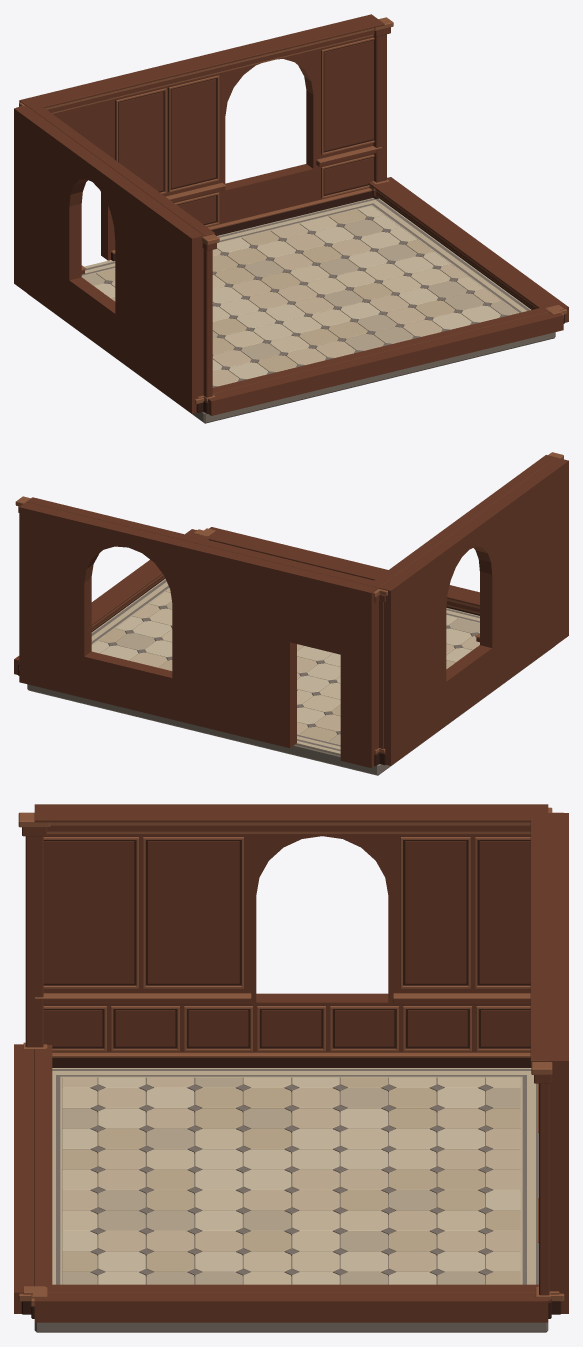
The model's file is main1f_f05_architecture.glb.
3 views of the same model, one above another, from view 1: azimuth 30°, elevation 25°; view 2: azimuth 150°, elevation 25°; view 3: azimuth 270°, elevation 25° (orthographic). The views are drawn at different scales.
Visible parts, largest first — view 1: main1f_f05_Floor, main1f_f05_left_Wall_Solid_00, main1f_f05_rear_Wall_Solid_00, main1f_f05_front_Cutedge_Solid_00, main1f_f05_rear_Wall_UpperPanel_00_2_0_Field, main1f_f05_rear_Wall_UpperPanel_00_1_1_Field, main1f_f05_rear_Wall_UpperPanel_00_1_0_Field, main1f_f05_rear_Wall_Cornice_00_3_0, main1f_f05_Floor_Foundation, main1f_f05_front_Cutedge_Cornice_00_3_0, main1f_f05_right_Cutedge_Solid_00, main1f_f05_Floor_Diamond_inlays (+14 smaller); view 2: main1f_f05_rear_Wall_Solid_00, main1f_f05_left_Wall_Solid_00, main1f_f05_Floor, main1f_f05_Floor_Foundation, main1f_f05_rear_Wall_Cornice_00_3_0, main1f_f05_left_Wall_Cornice_00_3_0, main1f_f05_front_Cutedge_Cornice_00_3_0, main1f_f05_front_Cutedge_Solid_00, main1f_f05_right_Cutedge_Solid_00, main1f_f05_right_Cutedge_Cornice_00_3_0, Pilaster_Shaft, Pilaster_Shaft_003 (+1 smaller); view 3: main1f_f05_Floor, main1f_f05_left_Wall_Solid_00, main1f_f05_right_Cutedge_Solid_00, main1f_f05_left_Wall_UpperPanel_00_0_1_Field, main1f_f05_left_Wall_UpperPanel_00_0_0_Field, main1f_f05_rear_Wall_Solid_00, main1f_f05_left_Wall_UpperPanel_00_1_0_Field, main1f_f05_left_Wall_UpperPanel_00_1_1_Field, main1f_f05_Floor_Foundation, main1f_f05_left_Wall_Cornice_00_3_0, main1f_f05_Floor_Diamond_inlays, main1f_f05_left_Wall_Skirting_00_0 (+25 smaller).
Boxes of the visible parts, x1,y1,x2,y2 form: main1f_f05_Floor: (81,198,531,386); main1f_f05_left_Wall_Solid_00: (14,105,203,413); main1f_f05_rear_Wall_Solid_00: (19,14,377,260); main1f_f05_front_Cutedge_Solid_00: (208,312,563,415); main1f_f05_rear_Wall_UpperPanel_00_2_0_Field: (324,40,373,151); main1f_f05_rear_Wall_UpperPanel_00_1_1_Field: (171,79,215,188); main1f_f05_rear_Wall_UpperPanel_00_1_0_Field: (118,92,163,191); main1f_f05_rear_Wall_Cornice_00_3_0: (31,19,384,109); main1f_f05_Floor_Foundation: (28,294,555,423); main1f_f05_front_Cutedge_Cornice_00_3_0: (212,305,551,393); main1f_f05_right_Cutedge_Solid_00: (383,177,568,322); main1f_f05_Floor_Diamond_inlays: (104,216,507,387); main1f_f05_rear_Wall_Solid_00: (19,502,378,767); main1f_f05_left_Wall_Solid_00: (378,457,568,765); main1f_f05_Floor: (91,578,479,754); main1f_f05_Floor_Foundation: (27,646,554,775); main1f_f05_rear_Wall_Cornice_00_3_0: (26,497,379,587); main1f_f05_left_Wall_Cornice_00_3_0: (369,455,556,587); main1f_f05_front_Cutedge_Cornice_00_3_0: (199,533,479,606); main1f_f05_front_Cutedge_Solid_00: (209,527,479,598); main1f_f05_right_Cutedge_Solid_00: (14,529,199,674); main1f_f05_right_Cutedge_Cornice_00_3_0: (91,534,212,625); Pilaster_Shaft: (379,601,383,748); Pilaster_Shaft_003: (375,601,378,749); main1f_f05_Floor: (52,1068,538,1284); main1f_f05_left_Wall_Solid_00: (34,804,548,1052); main1f_f05_right_Cutedge_Solid_00: (34,1292,548,1322); main1f_f05_left_Wall_UpperPanel_00_0_1_Field: (147,841,239,983); main1f_f05_left_Wall_UpperPanel_00_0_0_Field: (43,841,134,983); main1f_f05_rear_Wall_Solid_00: (548,813,568,1313); main1f_f05_left_Wall_UpperPanel_00_1_0_Field: (405,841,466,983); main1f_f05_left_Wall_UpperPanel_00_1_1_Field: (479,841,530,983); main1f_f05_Floor_Foundation: (34,1322,548,1332); main1f_f05_left_Wall_Cornice_00_3_0: (34,812,547,822); main1f_f05_Floor_Diamond_inlays: (90,1084,492,1276); main1f_f05_left_Wall_Skirting_00_0: (52,1057,531,1067).
Size of the model in its own units: 8.56 by 4.11 by 7.56.
